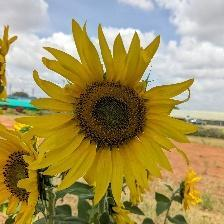sunflower: (16, 19, 199, 211)
